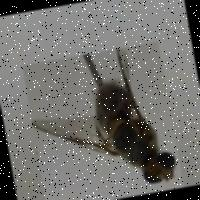Oriental-fruit-fly: (20, 41, 182, 200)
